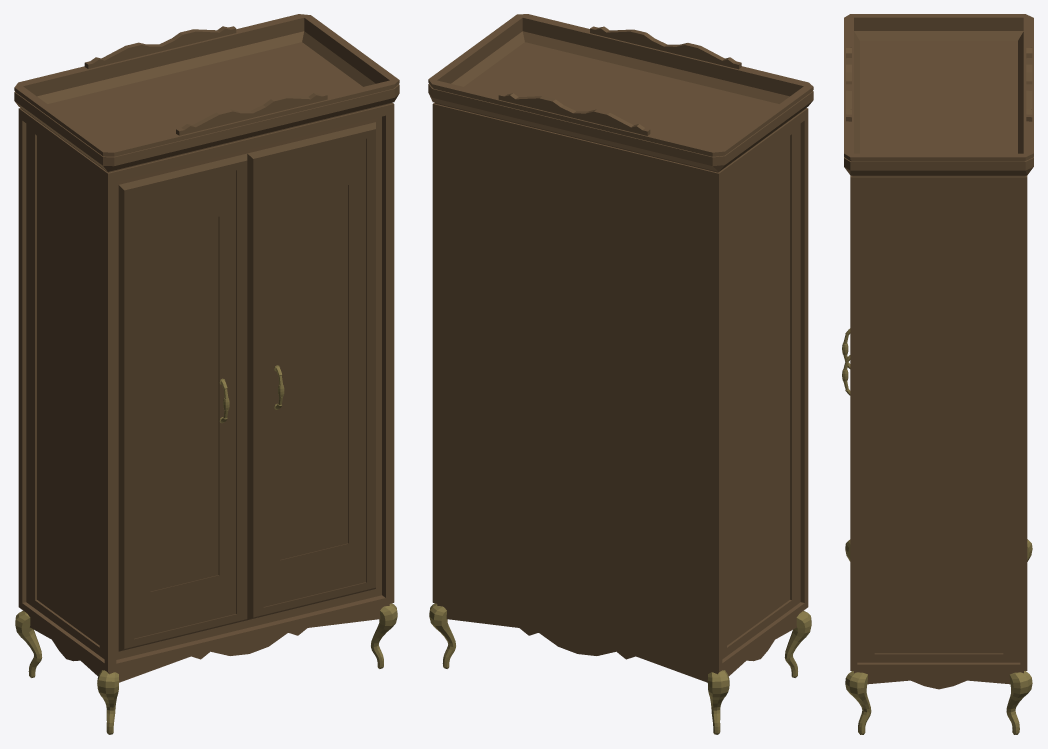
File: Closet.glb
3 views of the same model, side by side, from view 1: azimuth 30°, elevation 25°; view 2: azimuth 150°, elevation 25°; view 3: azimuth 270°, elevation 25° (orthographic).
Parts seen in each view (by area): view 1: Closet; view 2: Closet; view 3: Closet.
Boxes of the visible parts, left/top/right/bottom form: Closet: left=14, top=14, right=399, bottom=734; Closet: left=428, top=14, right=813, bottom=734; Closet: left=842, top=14, right=1033, bottom=734.
Bounding box in the file's own units: 1.03 × 1.98 × 0.5786.
3 materials, 3 textured.
